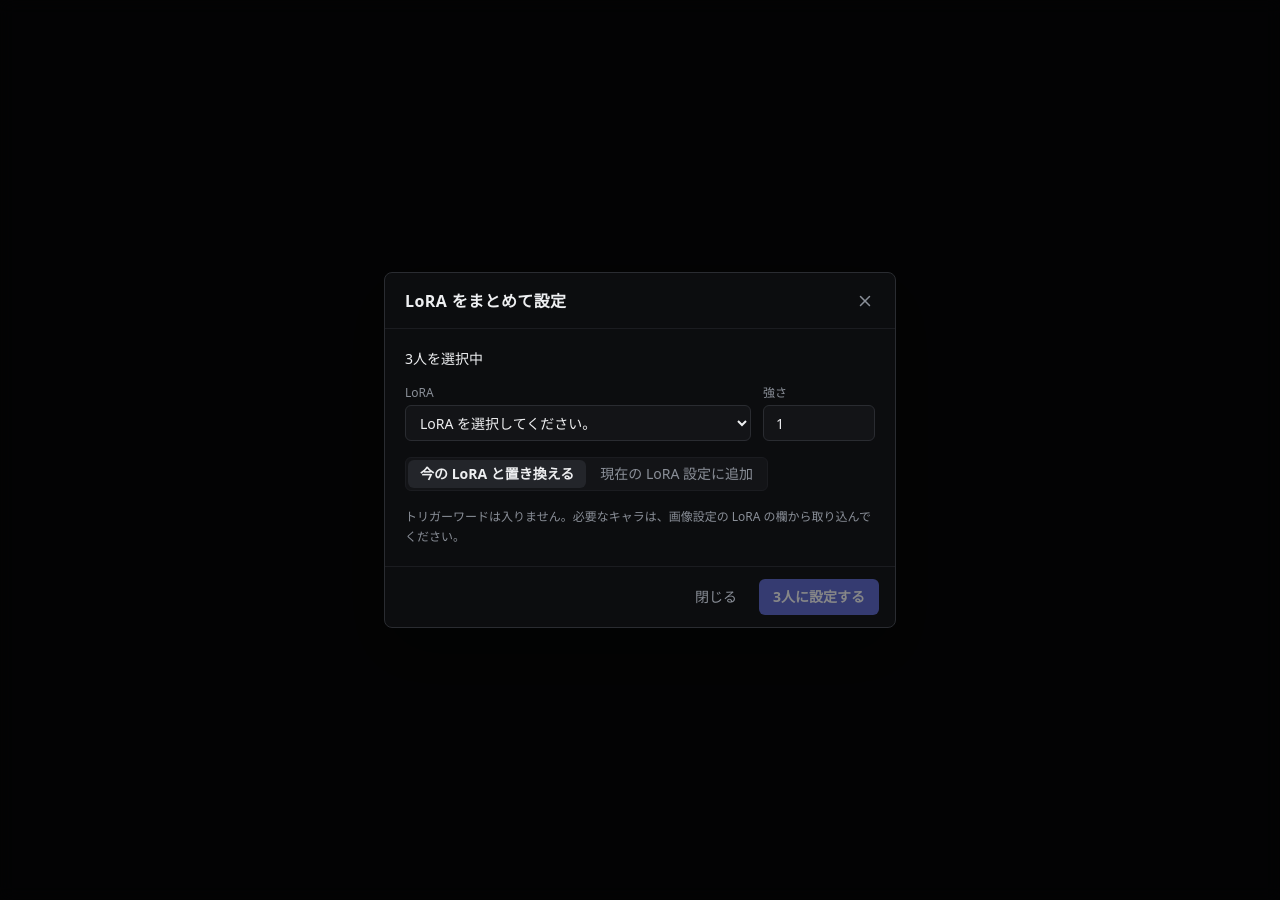
LoRA をまとめて設定する小窓 › 1人ずつ読み出して LoRA だけを差し替えて保存し、失敗したキャラを一覧に出して残りは続ける
Select "lora2" in the dropdown named "LoRA" at (578, 423), box [405, 405, 751, 441]
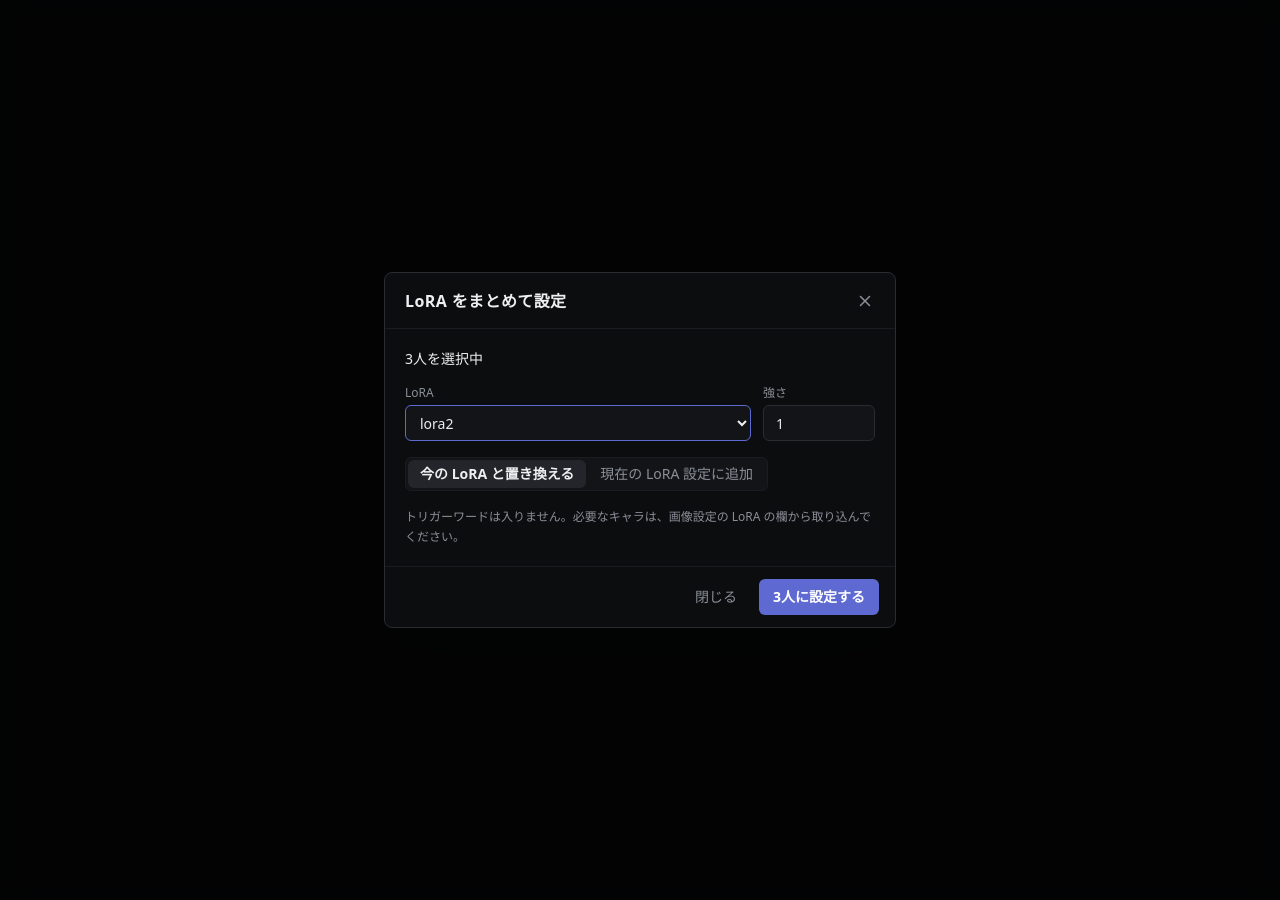
Click the button "3人に設定する" at (819, 597), box [759, 579, 879, 615]
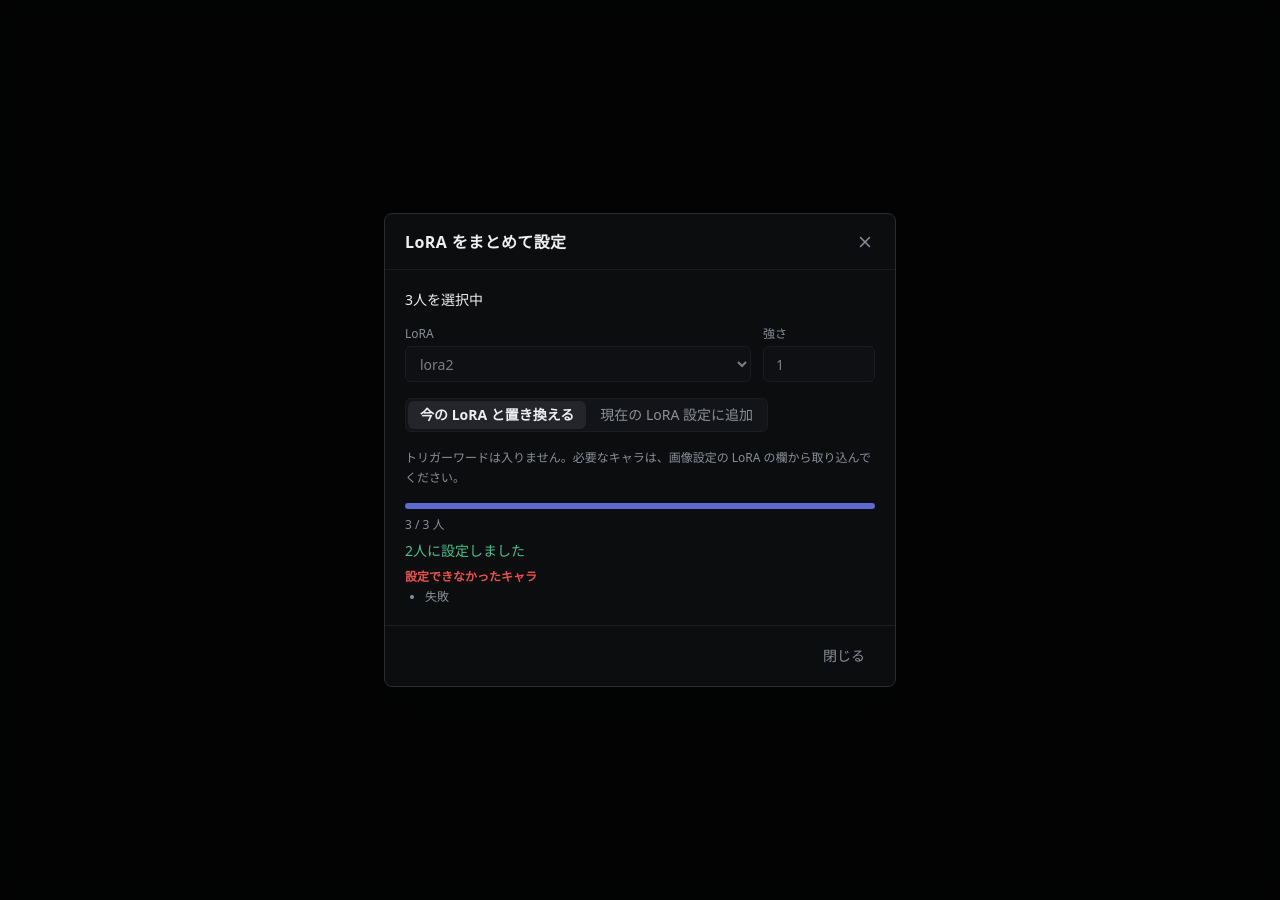
Result: the text "2人に設定しました" is shown at [405, 541, 525, 560]
Result: the text "設定できなかったキャラ" is shown at [405, 568, 537, 585]
Result: the list item "失敗" is shown at [425, 588, 449, 605]
